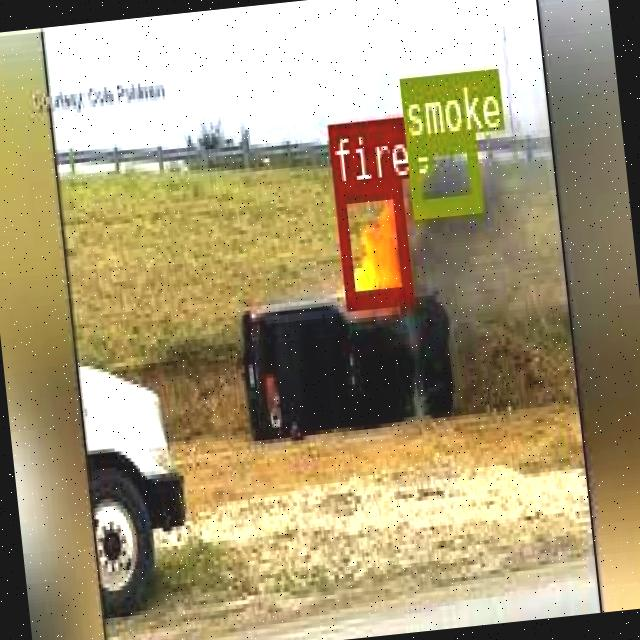fire: (332, 176, 410, 305)
smoke: (332, 176, 410, 306), (404, 129, 480, 214)
